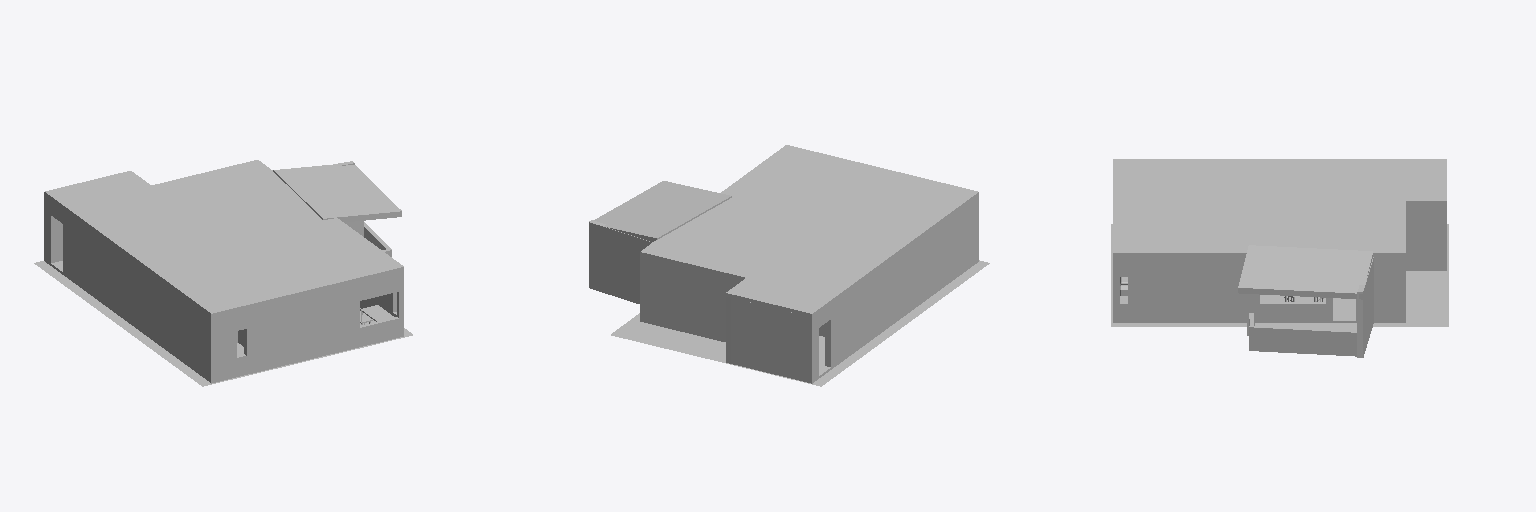
Rendered from OttoBrandt_2019-01-11_4.obj.
3 renders of one model, left to right at view 1: azimuth 30°, elevation 25°; view 2: azimuth 150°, elevation 25°; view 3: azimuth 270°, elevation 25°, orthographic.
Visible parts, largest first — view 1: roof_Cube.002, wall_outer_Cube, Plane; view 2: roof_Cube.002, wall_outer_Cube, Plane; view 3: roof_Cube.002, wall_outer_Cube, Plane.
Boxes of the visible parts, x1,y1,x2,y2 form: roof_Cube.002: [44, 160, 403, 319]; wall_outer_Cube: [44, 161, 403, 383]; Plane: [34, 261, 412, 386]; roof_Cube.002: [594, 145, 978, 318]; wall_outer_Cube: [589, 198, 978, 383]; Plane: [611, 260, 989, 386]; roof_Cube.002: [1113, 159, 1446, 299]; wall_outer_Cube: [1113, 207, 1446, 357]; Plane: [1111, 224, 1448, 330].
Size of the model in its own units: 10.92 by 2.72 by 11.58.